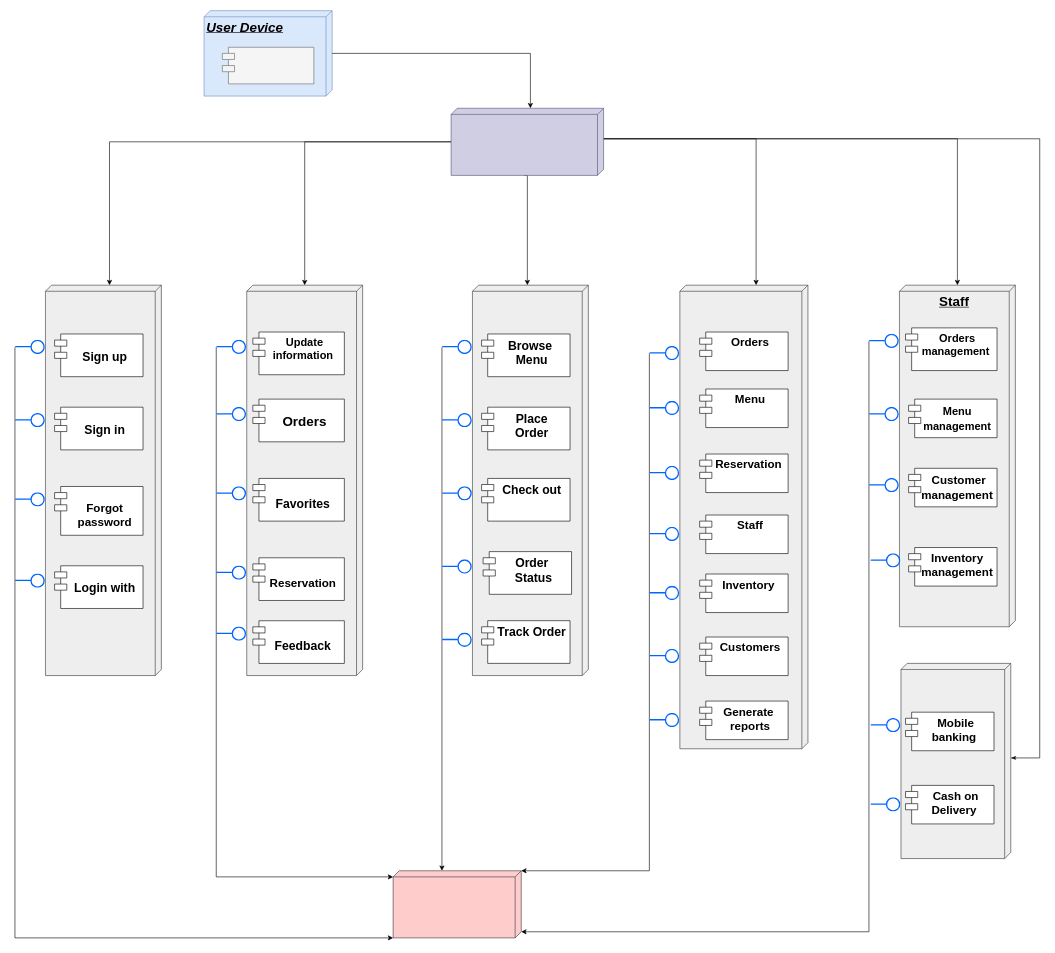
This 1055x953 diagram has some shape labels left out. Here are the shapes that lost their labels. From the top down, the box of each, then its label:
(222, 47, 314, 84): RestroSync Website
(450, 108, 604, 175): Application Server
(45, 285, 161, 676): Authentication
(246, 285, 363, 676): User Profile
(472, 285, 588, 676): Ordering & Menu
(679, 285, 808, 749): Admin Management
(900, 663, 1011, 859): Payment
(393, 870, 521, 938): Database Server
